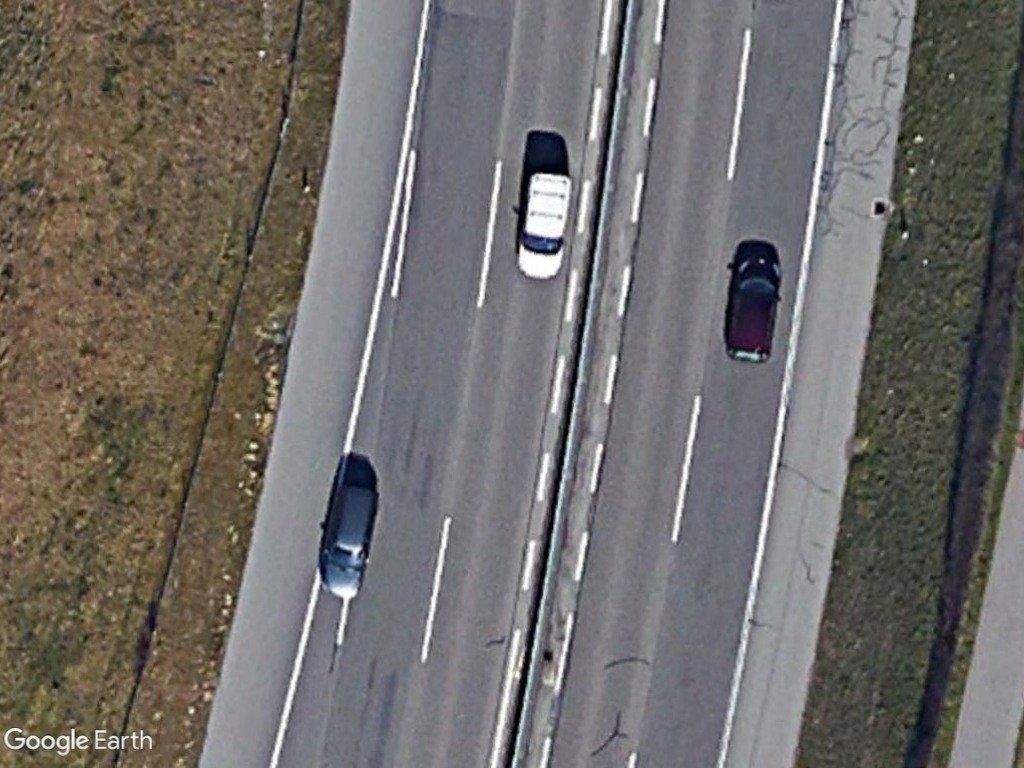car: (317, 479, 381, 601), (721, 250, 783, 367)
van: (509, 160, 577, 285)
